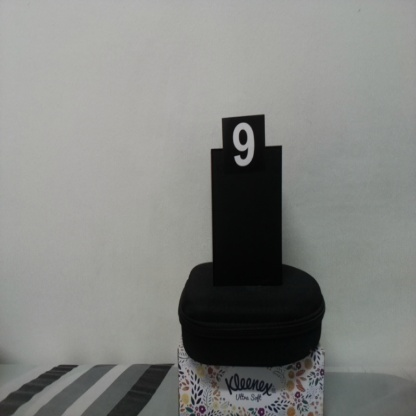id_9: (222, 117, 266, 184)
